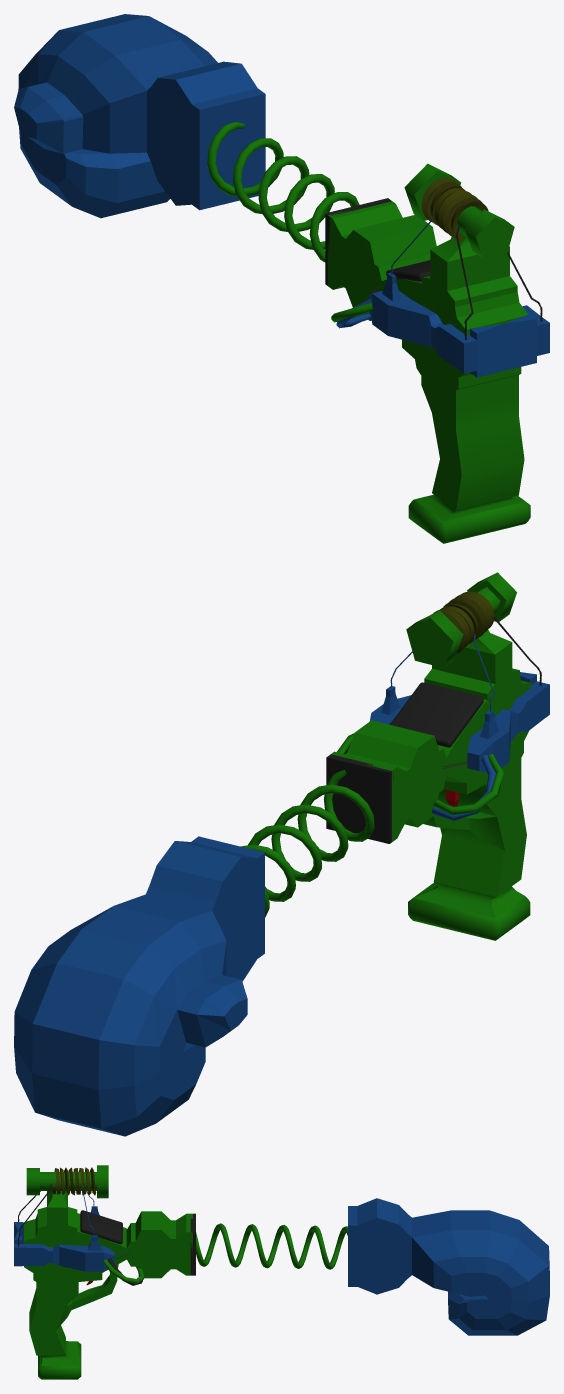
Rendered from Arma_pistolapuño2aversion.FBX.
3 views of the same model, one above another, from view 1: azimuth 30°, elevation 25°; view 2: azimuth 150°, elevation 25°; view 3: azimuth 270°, elevation 25° (orthographic). The views are drawn at different scales.
Visible parts, largest first — view 1: guanteboxeo, culata, Generador, Muelle, Nudo; view 2: guanteboxeo, culata, Muelle, Generador, Basemuelle, Decoracionfrontal, Nudo, Conexion3; view 3: guanteboxeo, culata, Generador, Muelle, Decoracionfrontal, Nudo, Basemuelle, Conexion1.
Boxes of the visible parts, x1,y1,x2,y2 form: guanteboxeo: [14, 14, 265, 218]; culata: [327, 163, 530, 543]; Generador: [369, 272, 549, 377]; Muelle: [207, 122, 359, 262]; Nudo: [421, 178, 488, 241]; guanteboxeo: [14, 836, 264, 1136]; culata: [331, 572, 531, 940]; Muelle: [241, 770, 374, 917]; Generador: [369, 672, 549, 772]; Basemuelle: [326, 754, 393, 843]; Decoracionfrontal: [390, 682, 483, 747]; Nudo: [433, 591, 494, 653]; Conexion3: [433, 754, 504, 815]; guanteboxeo: [348, 1198, 549, 1335]; culata: [24, 1165, 192, 1379]; Generador: [14, 1206, 114, 1271]; Muelle: [196, 1223, 347, 1269]; Decoracionfrontal: [80, 1210, 122, 1244]; Nudo: [52, 1167, 96, 1195]; Basemuelle: [190, 1213, 195, 1275]; Conexion1: [103, 1259, 144, 1284].
Bounding box in the file's own units: 178 × 302 × 727.
